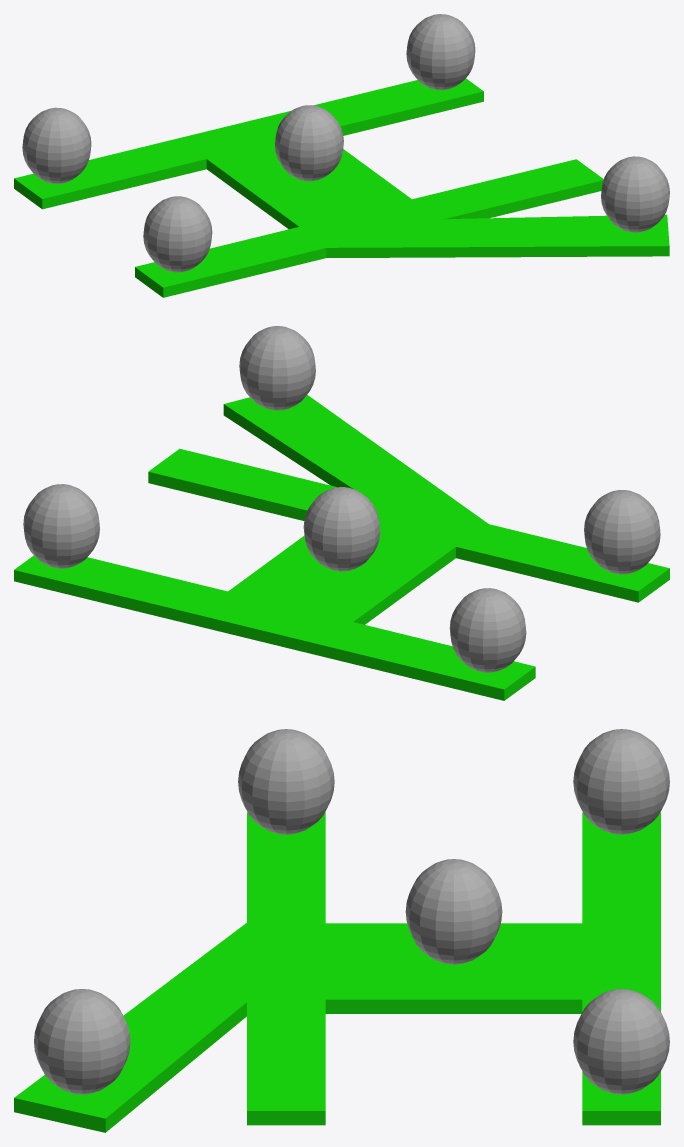
File: forearm_cluster_right.fbx
The picture shows the model from 3 angles, top to bottom: view 1: azimuth 30°, elevation 25°; view 2: azimuth 150°, elevation 25°; view 3: azimuth 270°, elevation 25°; orthographic projection. The views are drawn at different scales.
Visible parts, largest first — view 1: Plane.005, Sphere.011, Sphere.008, Sphere.012, Sphere.009, Sphere.010; view 2: Plane.005, Sphere.009, Sphere.008, Sphere.010, Sphere.011, Sphere.012; view 3: Plane.005, Sphere.011, Sphere.010, Sphere.008, Sphere.012, Sphere.009.
Part boxes in pixels (<box>): Plane.005: <box>14,78,669,297</box>; Sphere.011: <box>143,196,212,272</box>; Sphere.008: <box>601,156,669,232</box>; Sphere.012: <box>275,105,343,181</box>; Sphere.009: <box>406,14,475,90</box>; Sphere.010: <box>22,107,91,183</box>; Plane.005: <box>14,395,669,700</box>; Sphere.009: <box>23,484,99,568</box>; Sphere.008: <box>239,326,315,410</box>; Sphere.010: <box>449,588,526,672</box>; Sphere.011: <box>584,490,660,574</box>; Sphere.012: <box>303,487,380,571</box>; Plane.005: <box>14,812,660,1132</box>; Sphere.011: <box>238,729,334,834</box>; Sphere.010: <box>573,729,669,834</box>; Sphere.008: <box>34,989,130,1094</box>; Sphere.012: <box>405,859,502,964</box>; Sphere.009: <box>573,989,669,1094</box>.
Bounding box in the file's own units: 9.26 × 1.58 × 8.35.
